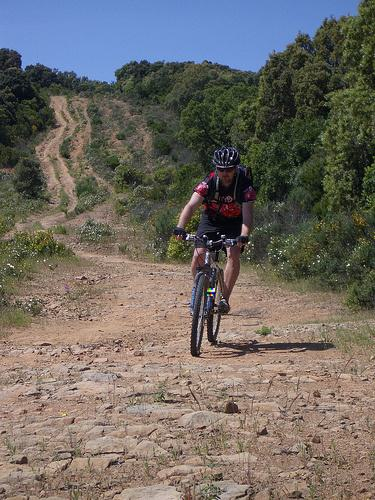car: (171, 227, 252, 358)
person: (174, 147, 257, 320)
